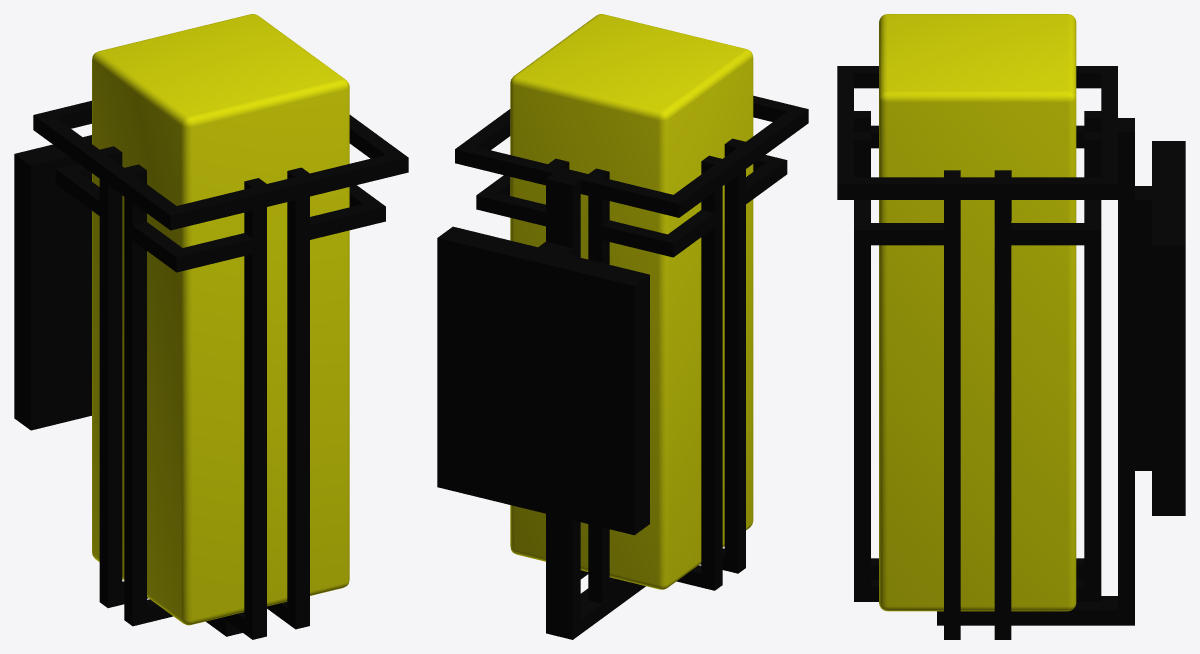
The model's file is Art_Deco_Wall_Light.fbx.
3 views of the same model, side by side, from view 1: azimuth 30°, elevation 25°; view 2: azimuth 150°, elevation 25°; view 3: azimuth 270°, elevation 25° (orthographic). The views are drawn at different scales.
Visible parts, largest first — view 1: #LMP0006_Deco_Wall_Metal_Black; view 2: #LMP0006_Deco_Wall_Metal_Black; view 3: #LMP0006_Deco_Wall_Metal_Black.
Part boxes in pixels (x1,y1,x2,y2): #LMP0006_Deco_Wall_Metal_Black: (14,14,408,639); #LMP0006_Deco_Wall_Metal_Black: (437,14,808,639); #LMP0006_Deco_Wall_Metal_Black: (837,14,1185,639).
Bounding box in the file's own units: 0.189 × 0.4199 × 0.2345.
